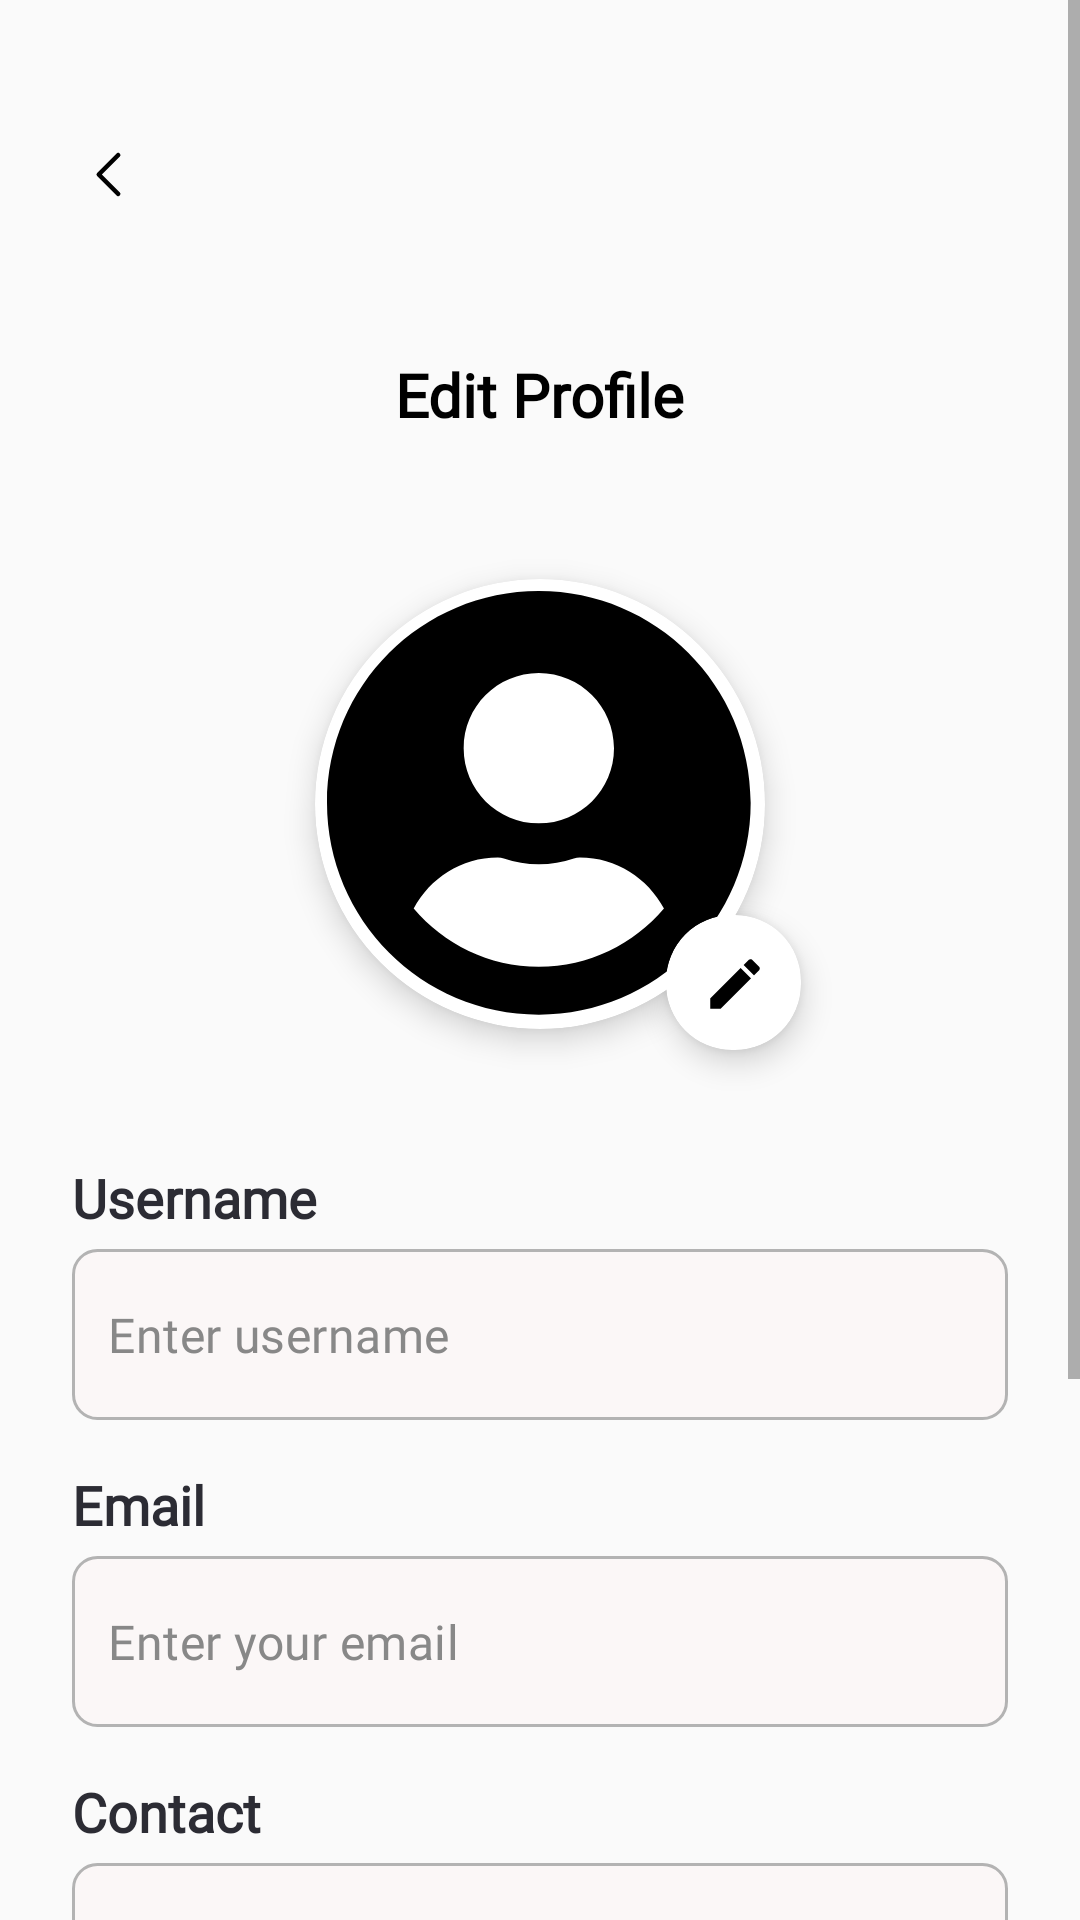

Locate icon controls on the screen. Image size 1080px x 1920px, boxes as (x1, y1, x2, y2).
Back: (96, 152, 121, 197)
